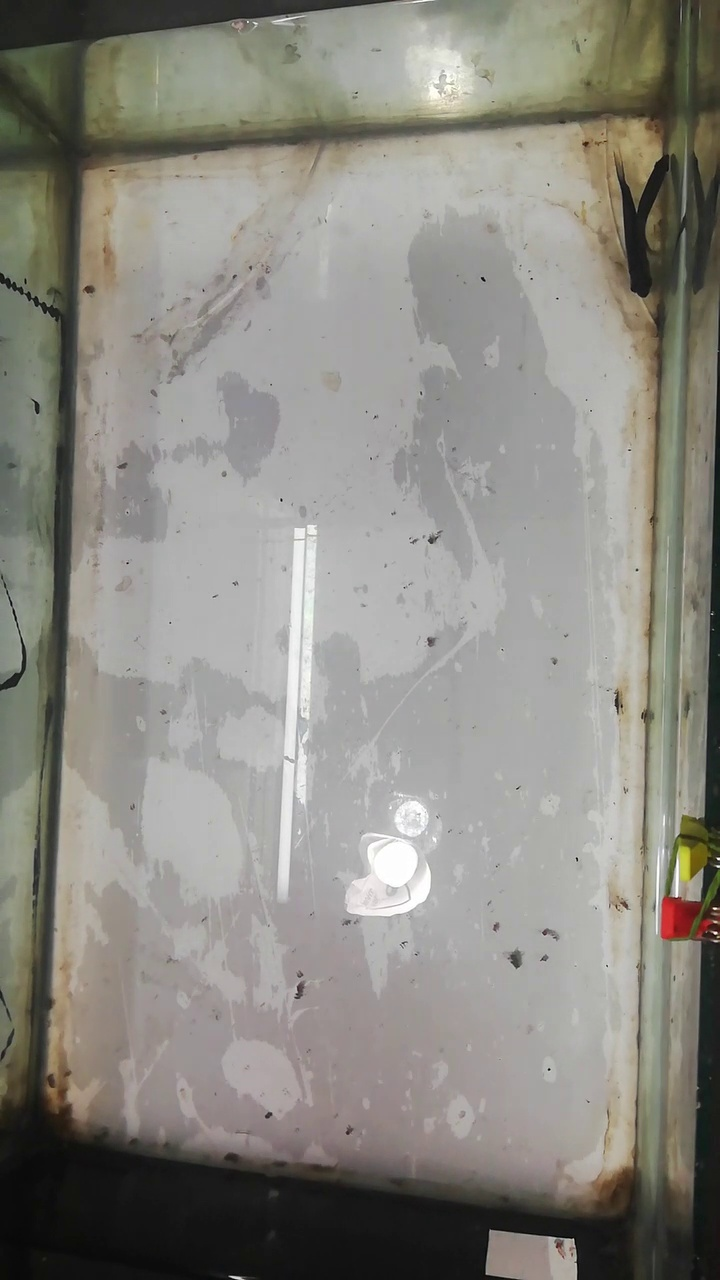fish1: (616, 163, 652, 297)
fish2: (634, 151, 669, 245)
